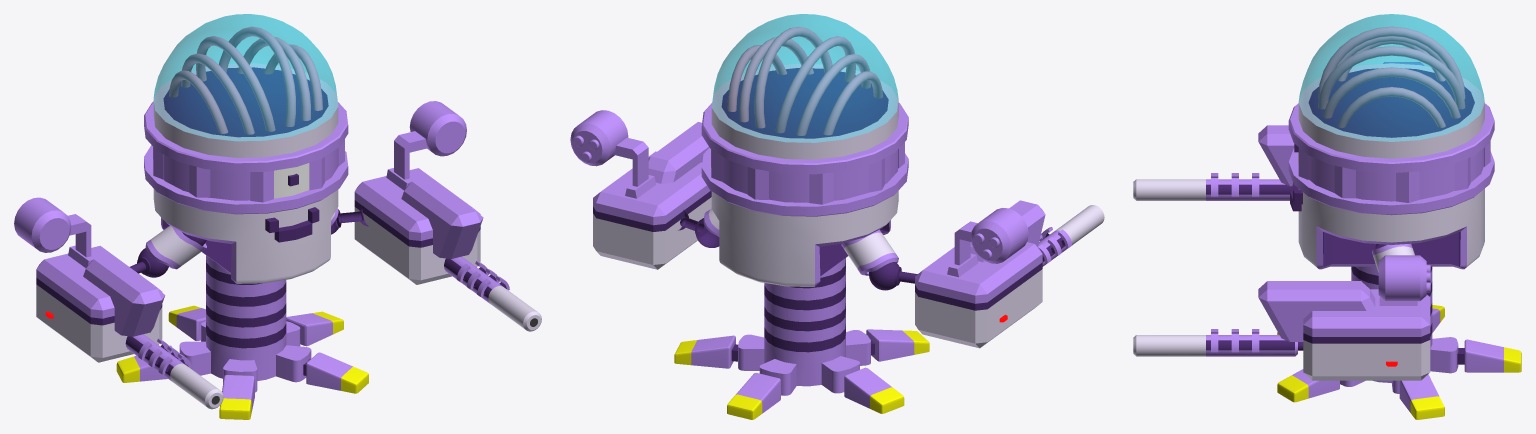
File: Lickquidator_GunBooom.fbx
3 renders of one model, left to right at view 1: azimuth 30°, elevation 25°; view 2: azimuth 150°, elevation 25°; view 3: azimuth 270°, elevation 25°, orthographic.
Visible parts, largest first — view 1: gun1 (×2), body_frame2, body_dome, visor, turret_base, brains, dividers, foot3, pad1, foot4, foot2, mouth_base (+3 smaller); view 2: gun1 (×2), body_frame2, body_dome, turret_base, visor, brains, dividers, foot5, foot1, foot2, foot4, pad1 (+1 smaller); view 3: gun1 (×2), body_frame2, body_dome, visor, brains, dividers, turret_base, foot1, foot2, foot3, pad1.
Boxes of the visible parts, x1,y1,x2,y2 form: gun1 (×2): (14, 101, 541, 409); body_frame2: (153, 63, 338, 283); body_dome: (153, 14, 337, 140); visor: (144, 101, 348, 214); turret_base: (179, 255, 311, 392); brains: (169, 26, 322, 134); dividers: (153, 139, 344, 202); foot3: (303, 352, 368, 393); pad1: (145, 226, 206, 269); foot4: (219, 375, 254, 419); foot2: (286, 311, 343, 346); mouth_base: (265, 207, 319, 242); gun1 (×2): (570, 110, 1104, 348); body_frame2: (711, 64, 898, 286); body_dome: (712, 14, 898, 142); turret_base: (738, 258, 870, 395); visor: (701, 103, 908, 216); brains: (727, 27, 882, 135); dividers: (711, 142, 904, 204); foot5: (844, 367, 904, 413); foot1: (727, 373, 780, 419); foot2: (674, 335, 738, 368); foot4: (866, 329, 929, 361); pad1: (841, 229, 898, 275); gun1 (×2): (1133, 62, 1430, 380); body_frame2: (1298, 63, 1484, 269); body_dome: (1298, 14, 1484, 141); visor: (1288, 103, 1494, 215); brains: (1318, 26, 1465, 127); dividers: (1298, 141, 1490, 202); turret_base: (1340, 266, 1458, 393); foot1: (1457, 339, 1521, 372); foot2: (1399, 374, 1444, 419); foot3: (1277, 369, 1339, 402); pad1: (1372, 243, 1414, 272).
Bounding box in the file's own units: 3.61 × 2.71 × 2.78.
